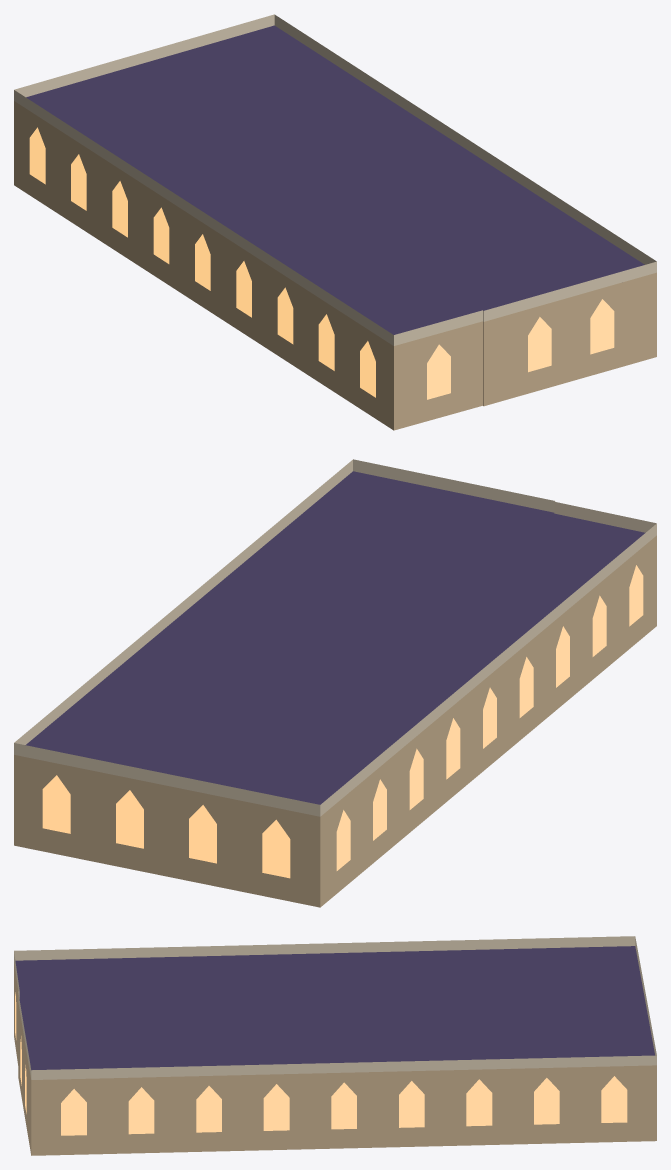
3 views of the same model, one above another, from view 1: azimuth 30°, elevation 25°; view 2: azimuth 150°, elevation 25°; view 3: azimuth 270°, elevation 25° (orthographic). The views are drawn at different scales.
Visible parts, largest first — view 1: campus/b-128-0; view 2: campus/b-128-0; view 3: campus/b-128-0.
Boxes of the visible parts, <box> form: campus/b-128-0: <box>14,14,656,430</box>; campus/b-128-0: <box>14,459,656,907</box>; campus/b-128-0: <box>14,936,656,1155</box>.
Bounding box in the file's own units: 15.94 × 4.75 × 32.32.
